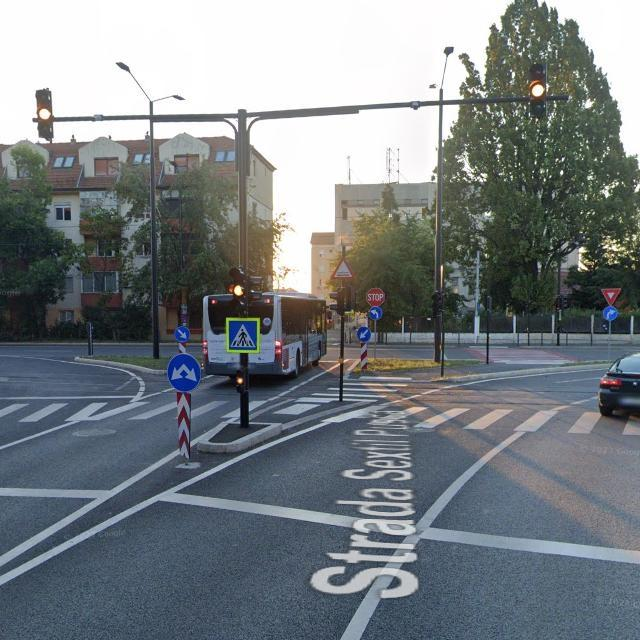info_crosswalk: (225, 316, 261, 352)
prio_give_way: (600, 287, 622, 306)
prio_stop: (366, 288, 385, 307)
